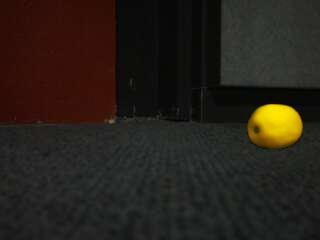Lemon: (247, 104, 305, 150)
